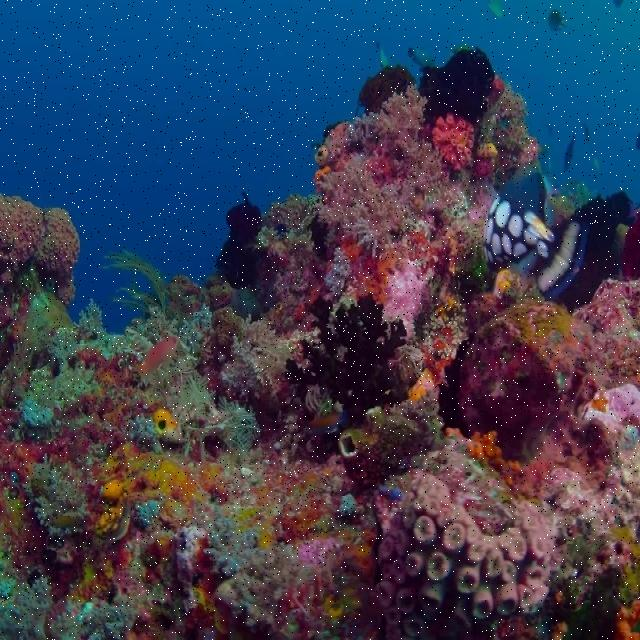aquatic plants: (105, 250, 166, 311)
fish: (483, 192, 586, 298)
reefs: (0, 76, 639, 638)
